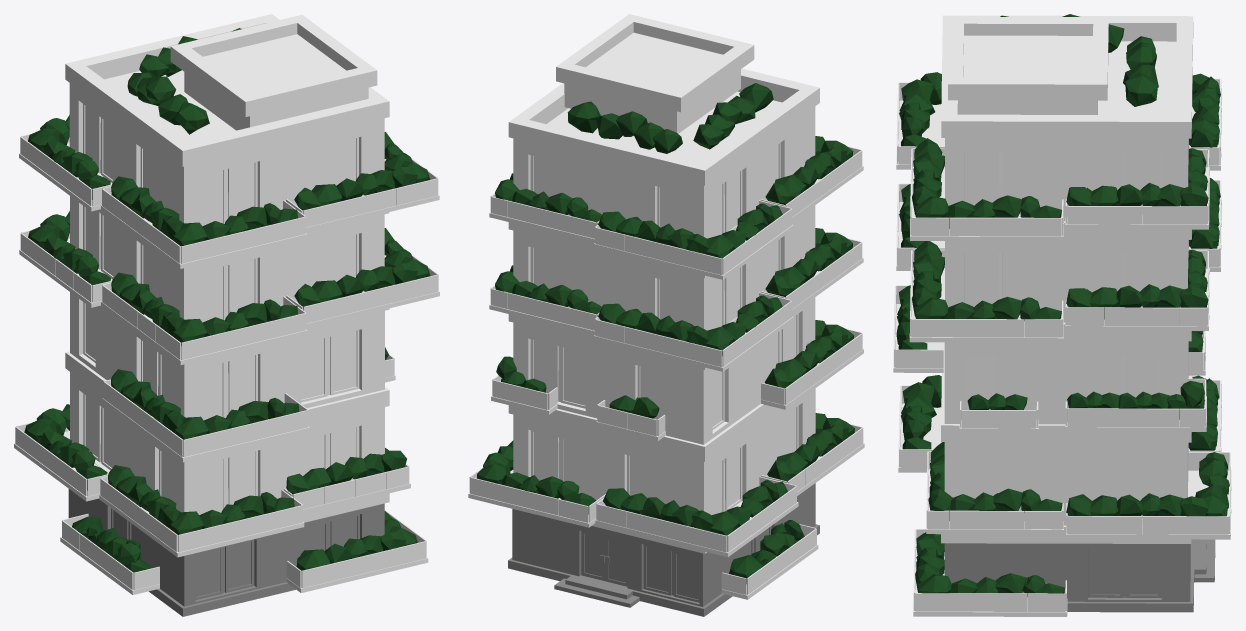
The model's file is Building.fbx.
The picture shows the model from 3 angles, left to right: view 1: azimuth 30°, elevation 25°; view 2: azimuth 150°, elevation 25°; view 3: azimuth 270°, elevation 25°; orthographic projection. The views are drawn at different scales.
Parts seen in each view (by area): view 1: Building; view 2: Building; view 3: Building.
Boxes of the visible parts, x1,y1,x2,y2 form: Building: (14,14,439,616); Building: (468,14,864,616); Building: (893,14,1231,616).
Bounding box in the file's own units: 1446 × 2457 × 1441.
